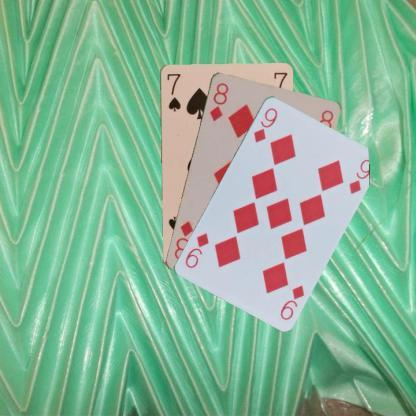7s: (164, 70, 182, 112)
8d: (206, 80, 230, 122)
9d: (250, 104, 280, 144), (277, 282, 306, 322)
